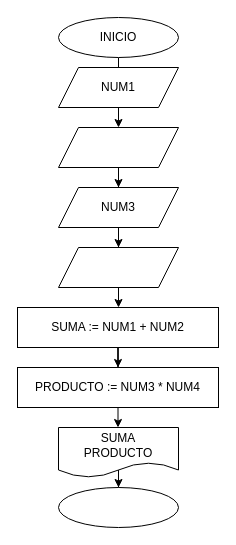
This 236x545 diagram has some shape labels left out. Each missing label, with the box of its shape:
FIN: (58, 486, 178, 528)
NUM2: (58, 126, 178, 168)
NUM4: (58, 246, 178, 288)
